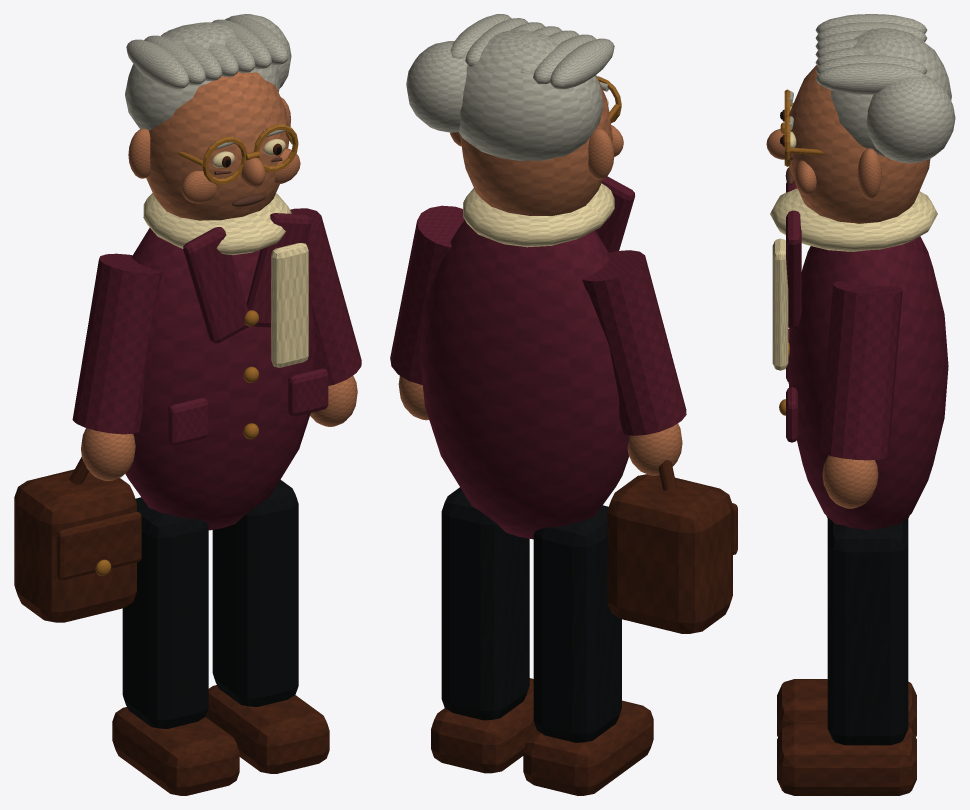
Rendered from traveller-grandma-v1-C4ahFAEB.glb.
3 renders of one model, left to right at view 1: azimuth 30°, elevation 25°; view 2: azimuth 150°, elevation 25°; view 3: azimuth 270°, elevation 25°, orthographic. The views are drawn at different scales.
Parts seen in each view (by area): view 1: Coat torso, Neck, Handbag, Trouser leg.001, Trouser leg, Grey hair, Eye white, Walking shoe, Walking shoe.001, Torus; view 2: Coat torso, Grey hair, Handbag, Trouser leg, Trouser leg.001, Neck, Walking shoe, Walking shoe.001, Eye white; view 3: Coat torso, Trouser leg.001, Grey hair, Neck, Walking shoe.001, Eye white, Walking shoe, Torus.
Part boxes in pixels (<box>): Coat torso: <box>72,208,361,530</box>; Neck: <box>81,71,357,480</box>; Handbag: <box>14,143,282,622</box>; Trouser leg.001: <box>212,479,298,706</box>; Trouser leg: <box>122,497,208,728</box>; Grey hair: <box>125,14,291,149</box>; Eye white: <box>143,139,308,367</box>; Walking shoe: <box>112,707,239,795</box>; Walking shoe.001: <box>205,685,329,773</box>; Torus: <box>95,124,298,576</box>; Coat torso: <box>390,176,686,539</box>; Grey hair: <box>406,14,614,161</box>; Handbag: <box>607,460,737,633</box>; Trouser leg: <box>533,505,621,742</box>; Trouser leg.001: <box>441,487,529,720</box>; Neck: <box>398,75,682,475</box>; Walking shoe: <box>523,700,653,795</box>; Walking shoe.001: <box>431,678,536,773</box>; Eye white: <box>463,99,614,247</box>; Coat torso: <box>786,181,948,530</box>; Trouser leg.001: <box>827,521,908,745</box>; Grey hair: <box>788,14,955,163</box>; Neck: <box>766,65,930,508</box>; Walking shoe.001: <box>777,723,916,795</box>; Eye white: <box>770,106,937,370</box>; Walking shoe: <box>777,679,916,736</box>; Torus: <box>779,89,823,415</box>.
Size of the model in its own units: 1.08 by 2.29 by 0.54.
8 materials, 8 textured.
